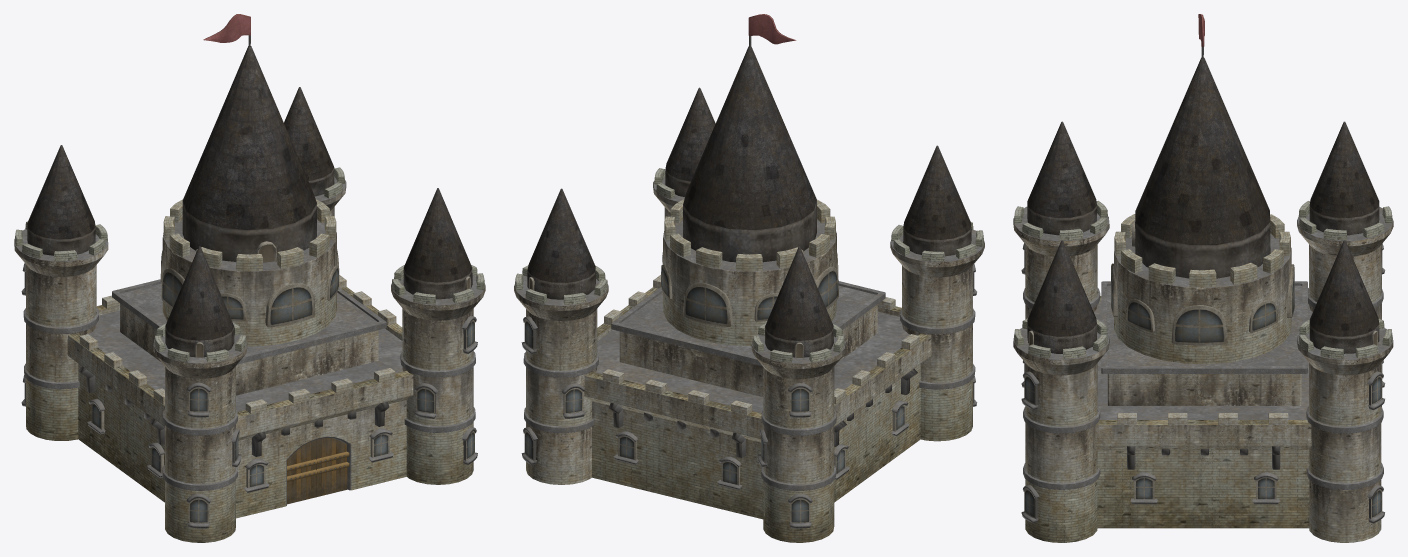
The model's file is castle.obj.
3 views of the same model, side by side, from view 1: azimuth 30°, elevation 25°; view 2: azimuth 150°, elevation 25°; view 3: azimuth 270°, elevation 25° (orthographic). The views are drawn at different scales.
Visible parts, largest first — view 1: obj1; view 2: obj1; view 3: obj1.
Part boxes in pixels (x1,y1,x2,y2): obj1: (14,14,485,542); obj1: (514,14,984,542); obj1: (1013,14,1393,542).
Size of the model in its own units: 0.1852 by 0.2424 by 0.1869.
Materials: 1 (1 with a texture image).
